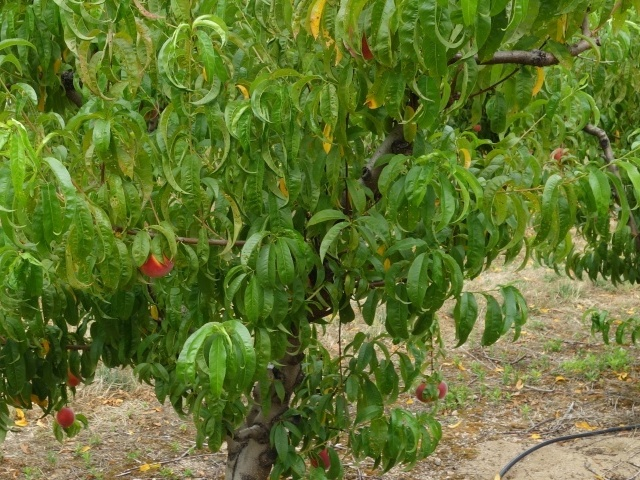peach: (132, 242, 176, 281), (344, 30, 377, 64), (307, 444, 332, 473), (53, 405, 79, 428), (62, 366, 85, 391), (413, 380, 435, 404), (429, 378, 450, 400)
